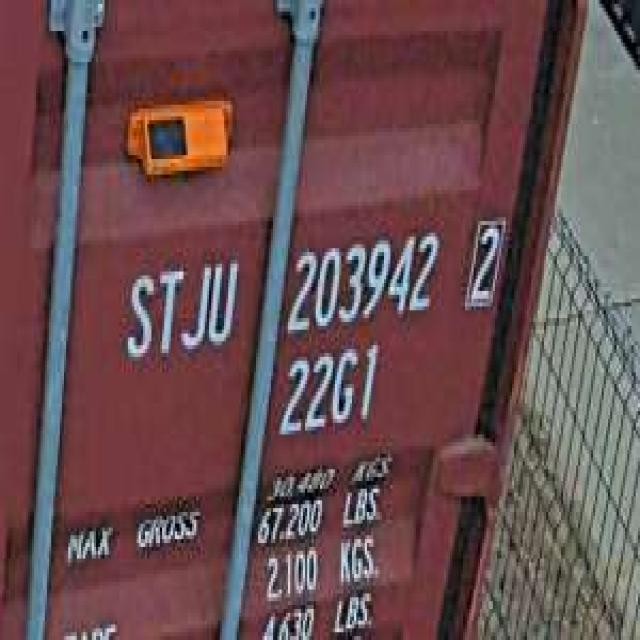dv: (461, 206, 508, 318)
owner: (120, 244, 241, 364)
serial: (284, 221, 442, 334)
size: (275, 342, 384, 442)
